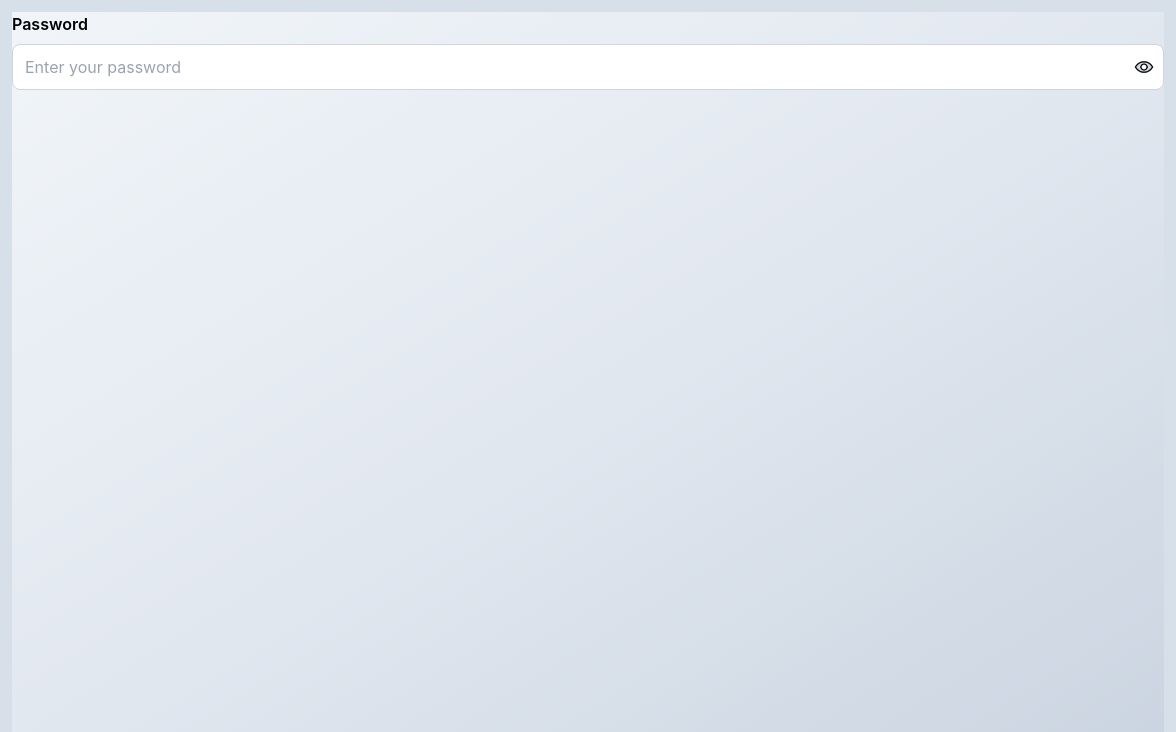
Test: PasswordInput Component › shows password when eye button is clicked
This screenshot has width=1176, height=732.
Click the button named "Show password" at x=1144, y=67, box 1134,57 -> 1154,77
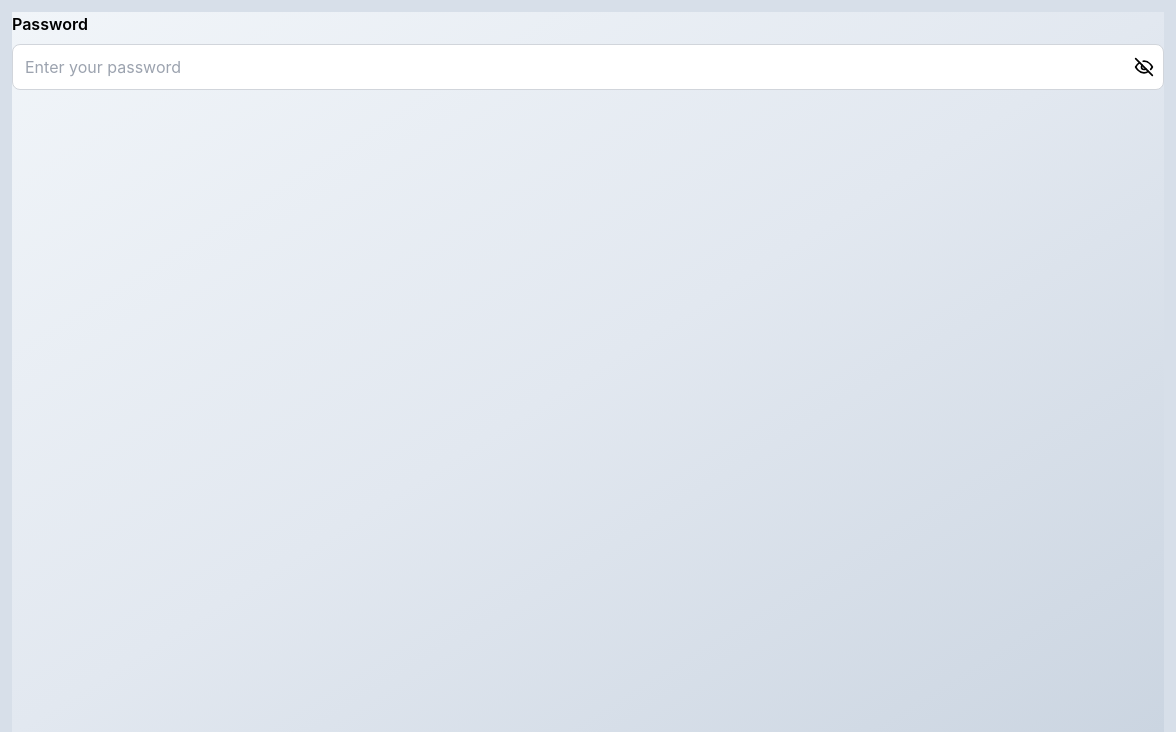
Expected: the picture with alt text "Hide Password" is shown, 1134,57 -> 1154,77
